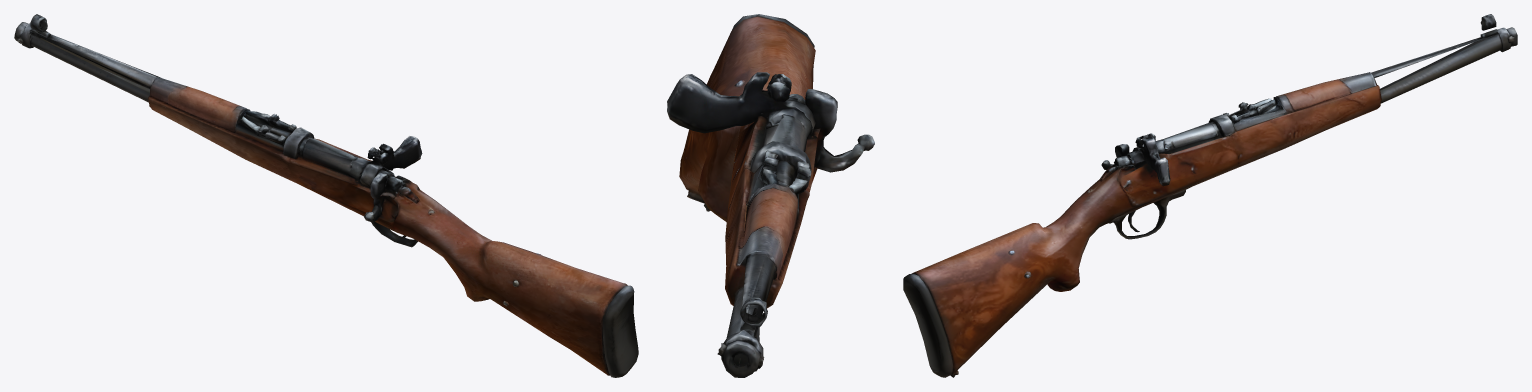
Rendered from M1917_Enfield_Rifle.glb.
3 views of the same model, side by side, from view 1: azimuth 30°, elevation 25°; view 2: azimuth 150°, elevation 25°; view 3: azimuth 270°, elevation 25° (orthographic). The views are drawn at different scales.
Visible parts, largest first — view 1: tripo_node_49a9f228-d79a-4ac0-a7f8-6de29eabe428; view 2: tripo_node_49a9f228-d79a-4ac0-a7f8-6de29eabe428; view 3: tripo_node_49a9f228-d79a-4ac0-a7f8-6de29eabe428.
Part boxes in pixels (x1,y1,x2,y2): tripo_node_49a9f228-d79a-4ac0-a7f8-6de29eabe428: (14, 14, 638, 377); tripo_node_49a9f228-d79a-4ac0-a7f8-6de29eabe428: (667, 14, 874, 377); tripo_node_49a9f228-d79a-4ac0-a7f8-6de29eabe428: (903, 14, 1517, 377).
Size of the model in its own units: 0.6035 by 0.3926 by 0.998.
Materials: 1 (1 with a texture image).
